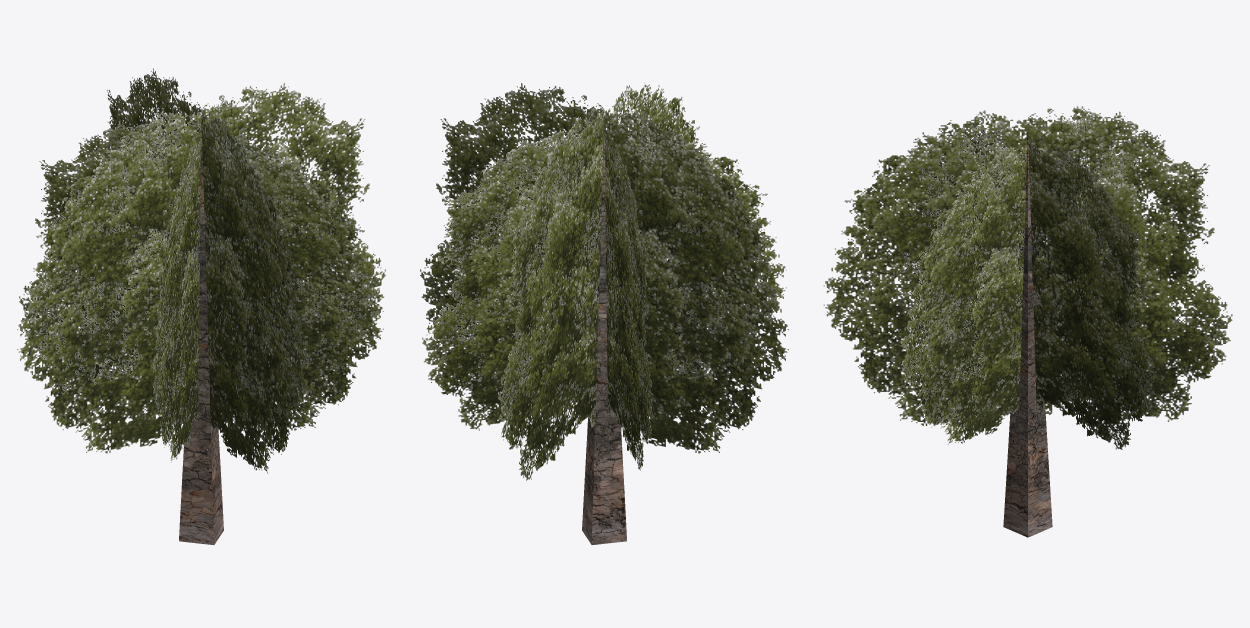
File: drvo 1.fbx
3 renders of one model, left to right at view 1: azimuth 30°, elevation 25°; view 2: azimuth 150°, elevation 25°; view 3: azimuth 270°, elevation 25°, orthographic. The views are drawn at different scales.
Visible parts, largest first — view 1: Plane, Plane.001, Plane.002, Plane.003, Cone; view 2: Plane, Plane.001, Plane.003, Plane.002, Cone; view 3: Plane.001, Plane.003, Plane.002, Cone.
Part boxes in pixels (box(x1,y1,x2,y2)): Plane: box(17, 83, 385, 453); Plane.001: box(101, 68, 307, 473); Plane.002: box(19, 119, 383, 430); Plane.003: box(152, 95, 244, 462); Cone: box(179, 116, 223, 544); Plane: box(420, 83, 788, 453); Plane.001: box(498, 82, 699, 480); Plane.003: box(422, 124, 786, 430); Plane.002: box(577, 109, 653, 470); Cone: box(582, 117, 626, 544); Plane.001: box(823, 106, 1232, 427); Plane.003: box(904, 126, 1156, 449); Plane.002: box(900, 118, 1152, 444); Cone: box(1003, 127, 1052, 537).
Bounding box in the file's own units: 796 × 899 × 796.
Materials: 4 (4 with a texture image).
